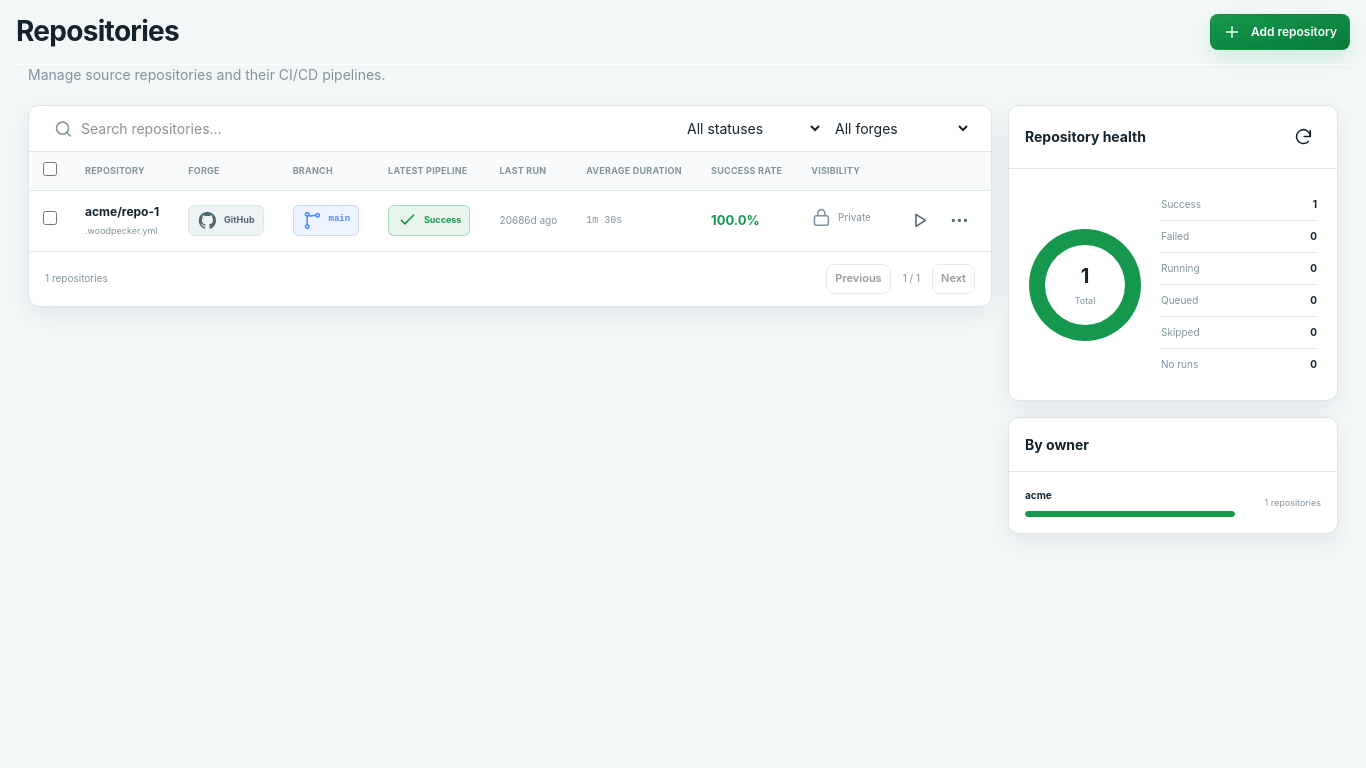
Test: repositories overview › keeps confirmed metrics when a refreshed statistics request fails
Check: the row that starts with "acme/repo-1" shows "100.0%", box [711,212,760,228]
Click the button titled "Refresh repositories": x=1303, y=137 [1285,119,1321,155]
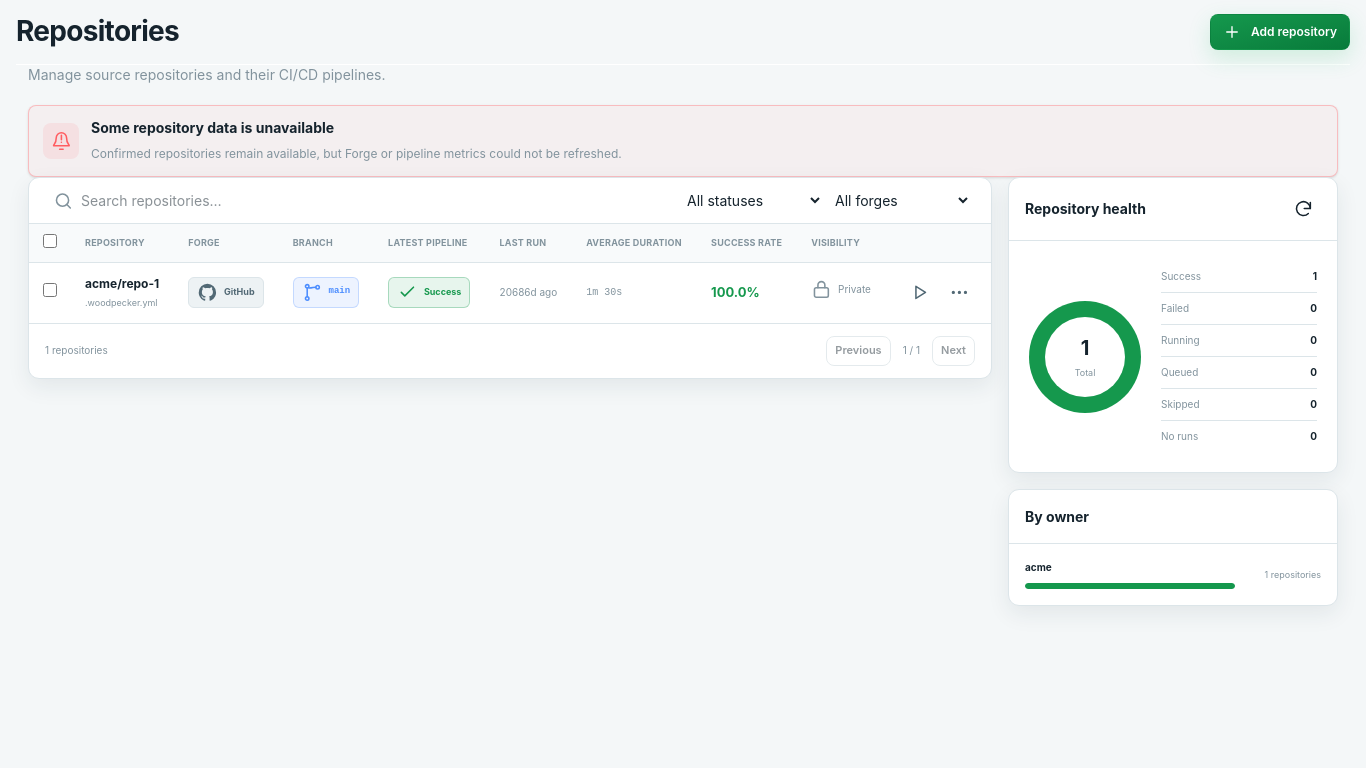
Check: the row that starts with "acme/repo-1" shows "100.0%", box [711,284,760,300]
Check: the message shows "Some repository data is unavailable", box [91,119,334,136]
